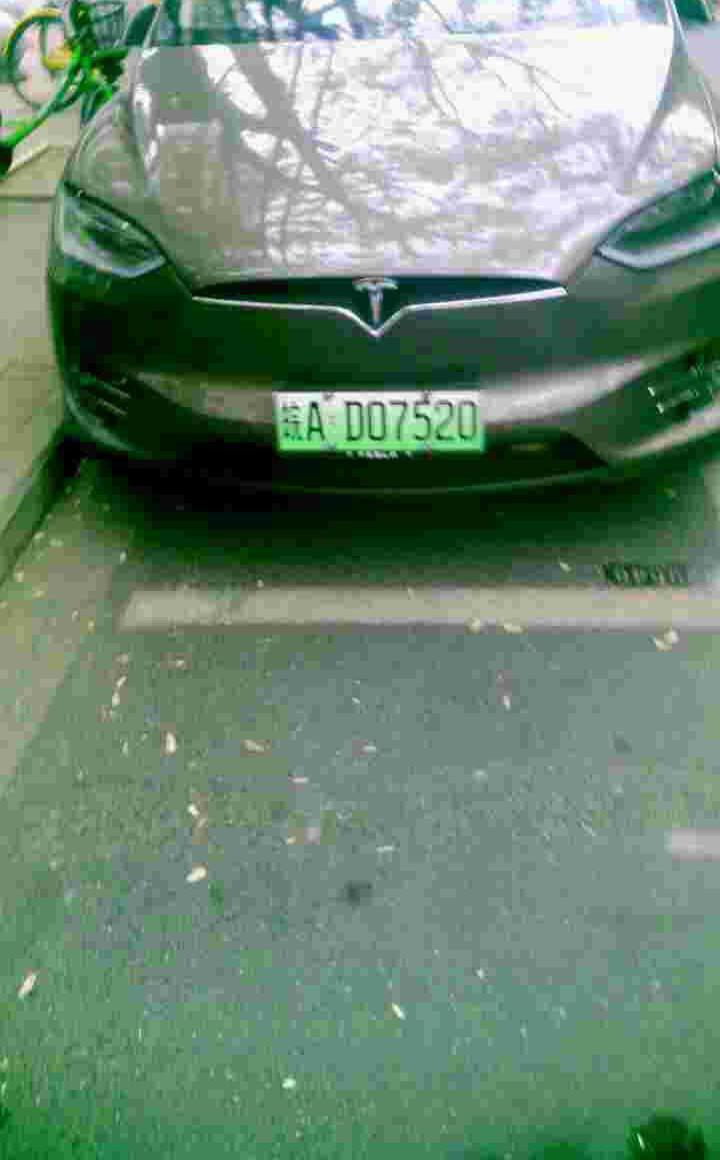car_id: (270, 391, 485, 450)
